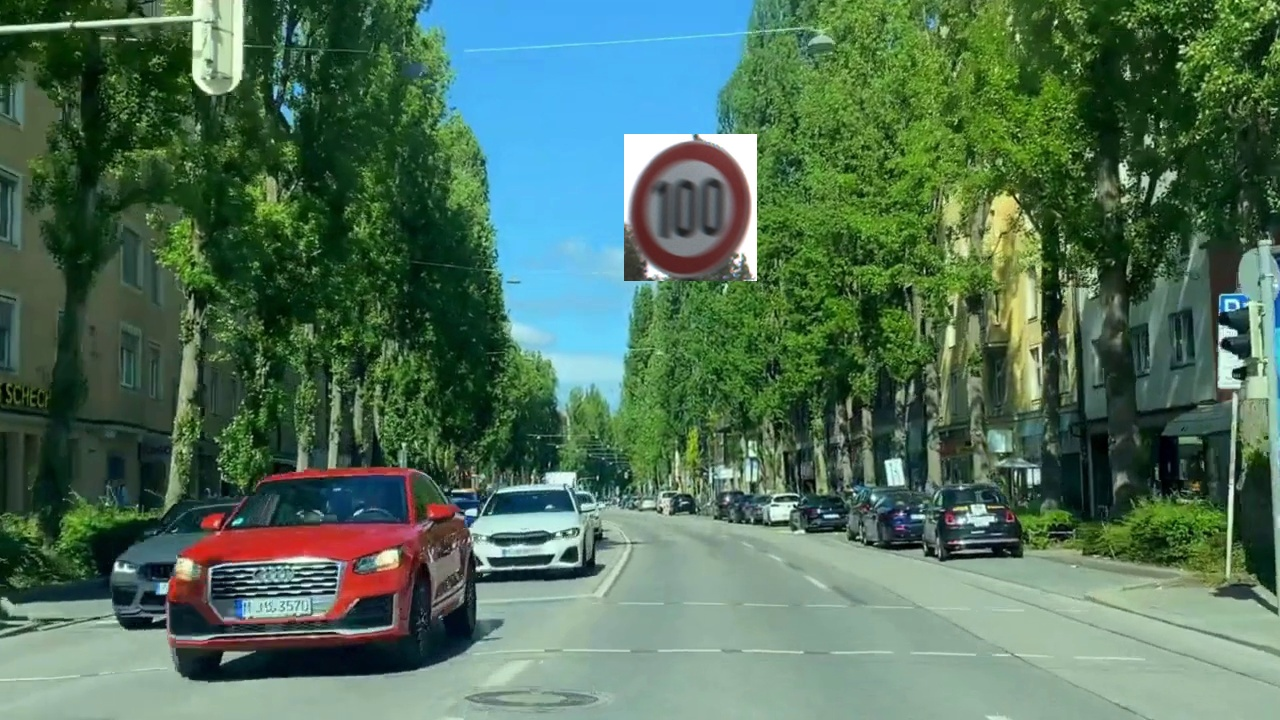Speed 100: (624, 134, 757, 281)
